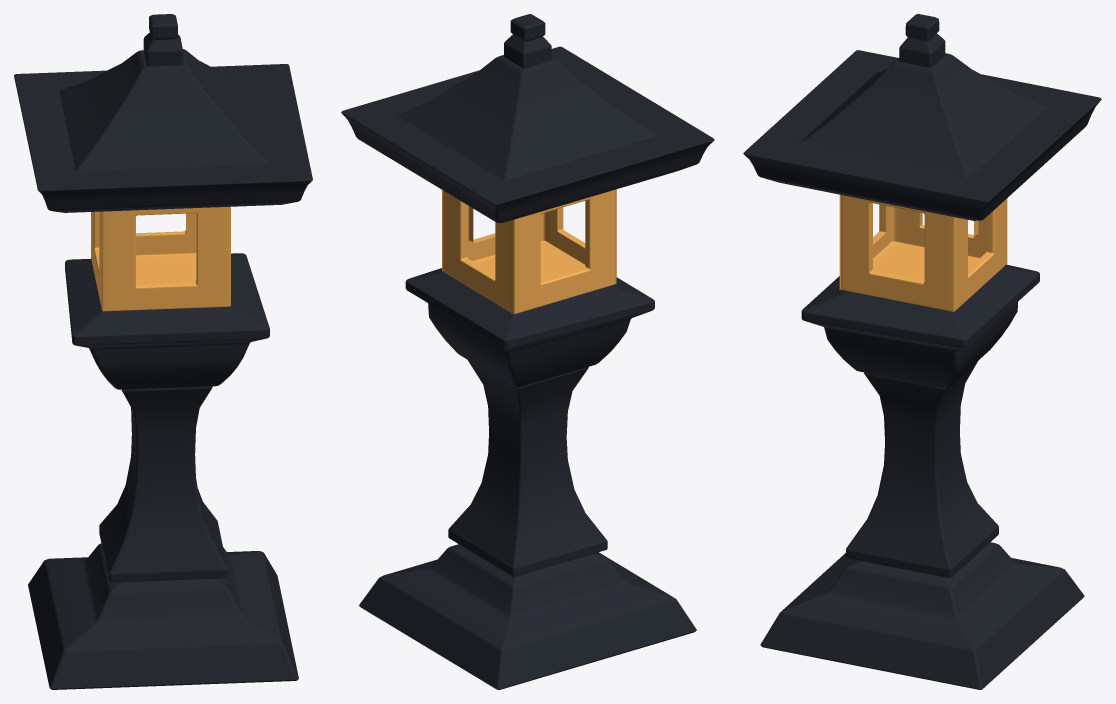
File: lampPost-compressed.glb
3 renders of one model, left to right at view 1: azimuth 30°, elevation 25°; view 2: azimuth 150°, elevation 25°; view 3: azimuth 270°, elevation 25°, orthographic. The views are drawn at different scales.
Visible parts, largest first — view 1: lampPostPhysical; view 2: lampPostPhysical; view 3: lampPostPhysical.
Boxes of the visible parts, <box> form: lampPostPhysical: <box>14,14,312,689</box>; lampPostPhysical: <box>341,14,714,689</box>; lampPostPhysical: <box>743,14,1101,689</box>.
Bounding box in the file's own units: 1.46 × 2.7 × 1.46.
